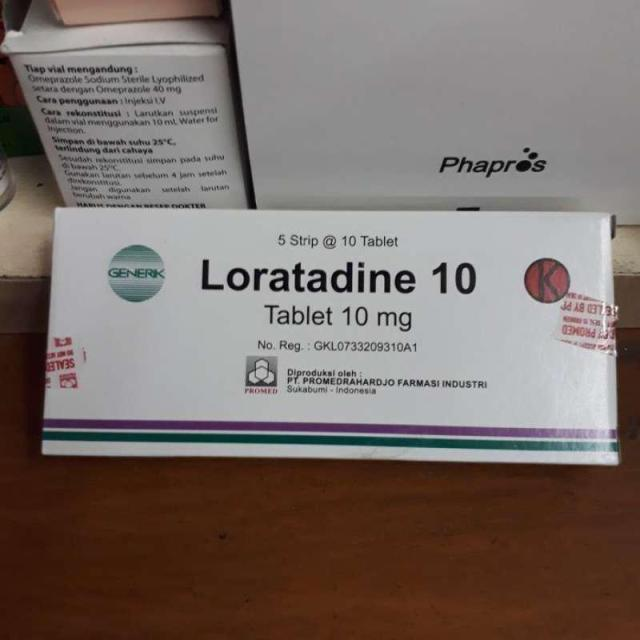drug-name: (197, 258, 481, 294)
